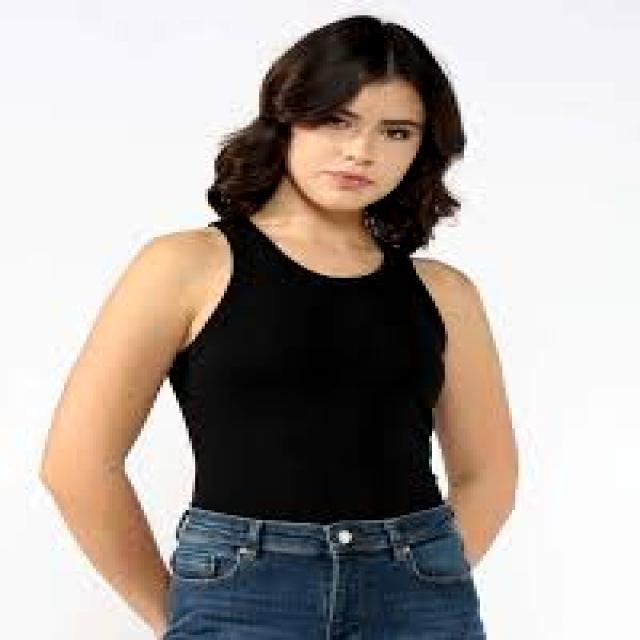face: (285, 80, 425, 211)
lower-wear: (164, 503, 486, 639)
top-wear: (170, 215, 447, 522)
